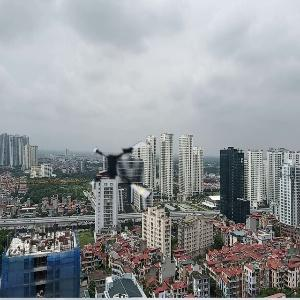drone: (89, 135, 162, 208)
